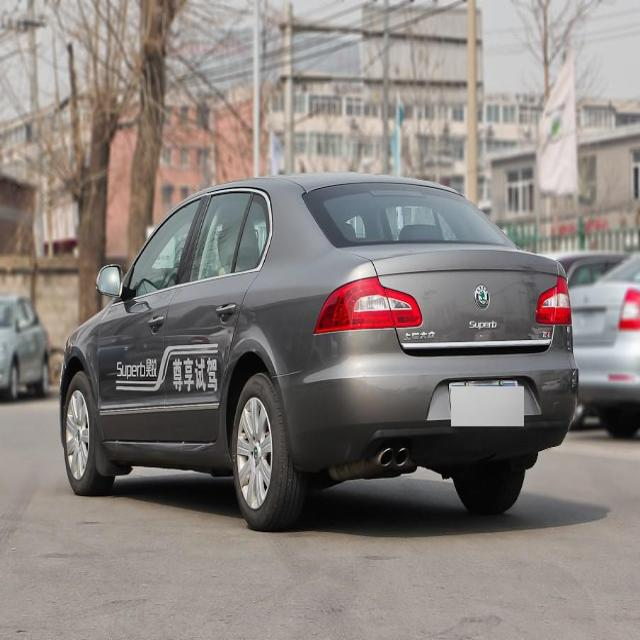back_glass: (300, 180, 517, 250)
back_left_side_light: (313, 274, 424, 335)
back_right_side_light: (532, 273, 572, 328)
door: (166, 189, 275, 437)
front_left_side_door: (96, 190, 206, 446)
front_left_side_mirror: (95, 263, 126, 298)
rear_bumper: (270, 345, 580, 451)
wheel: (232, 372, 298, 528), (62, 371, 104, 495)
